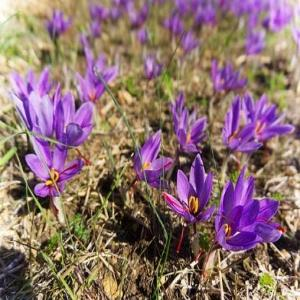Saffron: (27, 135, 82, 197), (163, 158, 210, 219), (54, 91, 103, 140), (219, 184, 250, 249), (133, 132, 166, 182), (224, 103, 256, 152), (172, 106, 206, 149)
